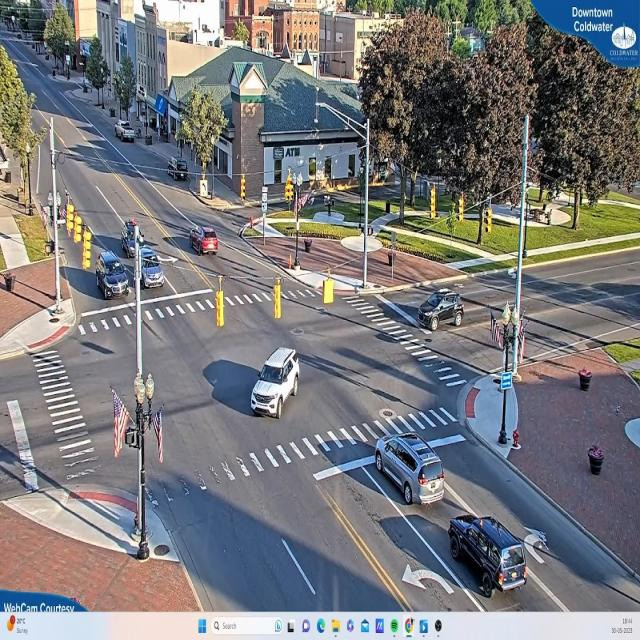car: (449, 515, 533, 595), (373, 432, 445, 506), (252, 346, 303, 418), (394, 290, 465, 333), (98, 256, 133, 300), (190, 228, 218, 256), (118, 122, 137, 144)
